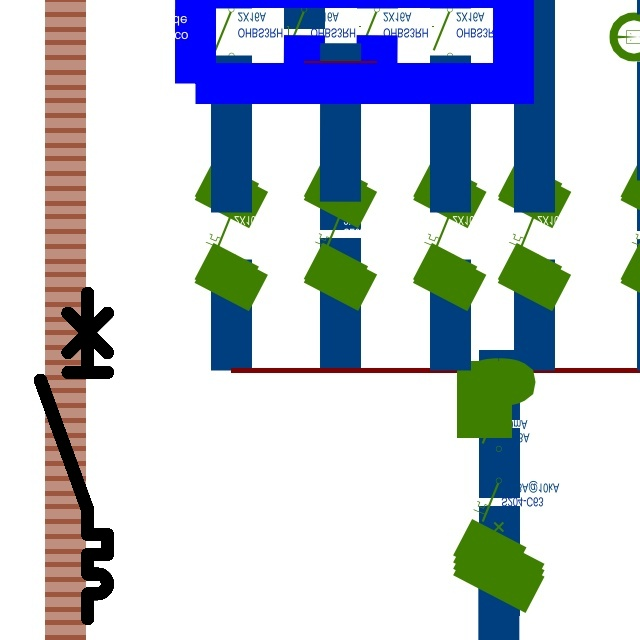interruptor_termomagnetico: (32, 285, 116, 627)
